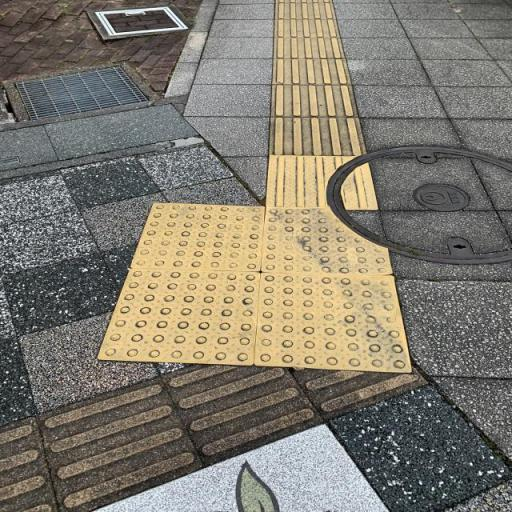dot: (98, 268, 262, 364), (255, 273, 412, 373), (128, 203, 264, 271), (261, 207, 393, 272)
line: (269, 116, 367, 156), (272, 85, 360, 117), (271, 58, 353, 85), (274, 38, 343, 58), (274, 19, 340, 38), (274, 3, 336, 19)
